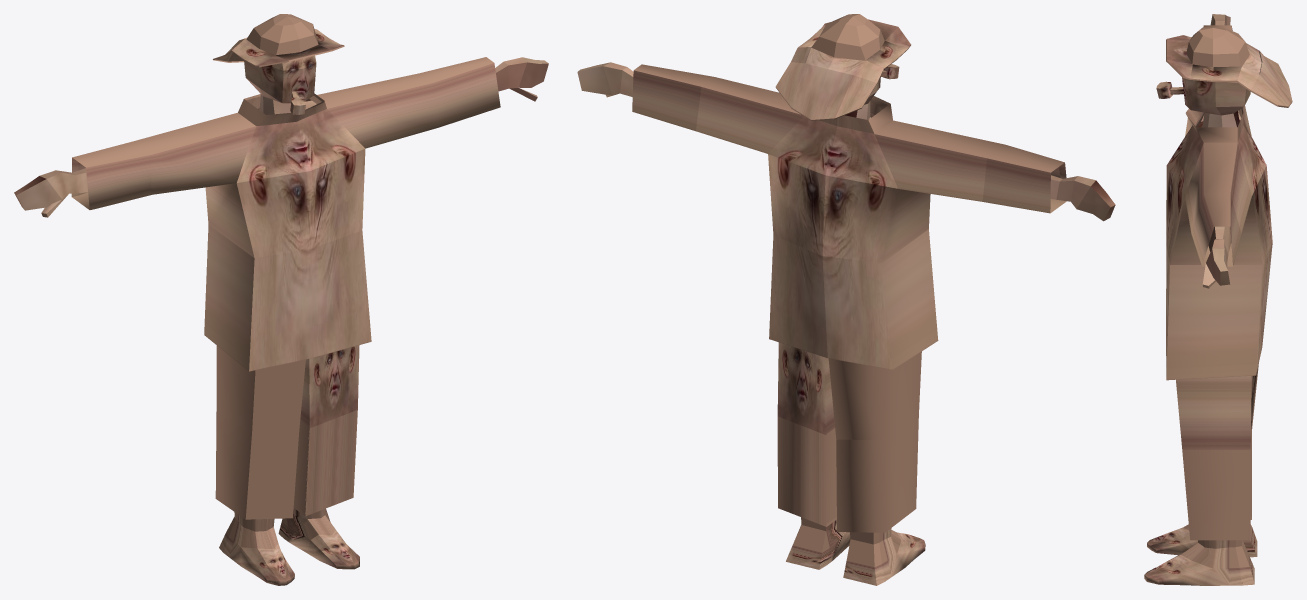
Rendered from murphskinobj.obj.
The picture shows the model from 3 angles, left to right: view 1: azimuth 30°, elevation 25°; view 2: azimuth 150°, elevation 25°; view 3: azimuth 270°, elevation 25°; orthographic projection.
Parts seen in each view (by area): view 1: Plane.003, Plane.002, Cube.002, Plane.001, Plane.004, Plane.005; view 2: Plane.003, Plane.002, Plane.001, Cube.002, Plane.004, Plane.005; view 3: Plane.003, Plane.002, Plane.001, Cube.002, Plane.005, Plane.004, Cube.003.
Part boxes in pixels (x1=…): Plane.003: x1=71, y1=57, x2=500, y2=371; Plane.002: x1=215, y1=345, x2=359, y2=519; Cube.002: x1=14, y1=55, x2=548, y2=582; Plane.001: x1=213, y1=14, x2=344, y2=67; Plane.004: x1=219, y1=512, x2=294, y2=585; Plane.005: x1=278, y1=508, x2=359, y2=569; Plane.003: x1=632, y1=64, x2=1066, y2=369; Plane.002: x1=777, y1=342, x2=921, y2=532; Plane.001: x1=775, y1=14, x2=911, y2=120; Cube.002: x1=577, y1=62, x2=1115, y2=221; Plane.004: x1=843, y1=528, x2=925, y2=585; Plane.005: x1=786, y1=517, x2=850, y2=569; Plane.003: x1=1166, y1=25, x2=1272, y2=380; Plane.002: x1=1176, y1=363, x2=1258, y2=540; Plane.001: x1=1166, y1=27, x2=1292, y2=107; Cube.002: x1=1182, y1=14, x2=1250, y2=583; Plane.005: x1=1144, y1=540, x2=1254, y2=585; Plane.004: x1=1147, y1=524, x2=1257, y2=557; Cube.003: x1=1156, y1=81, x2=1183, y2=98.
Bounding box in the file's own units: 1.77 × 1.71 × 0.4292.
